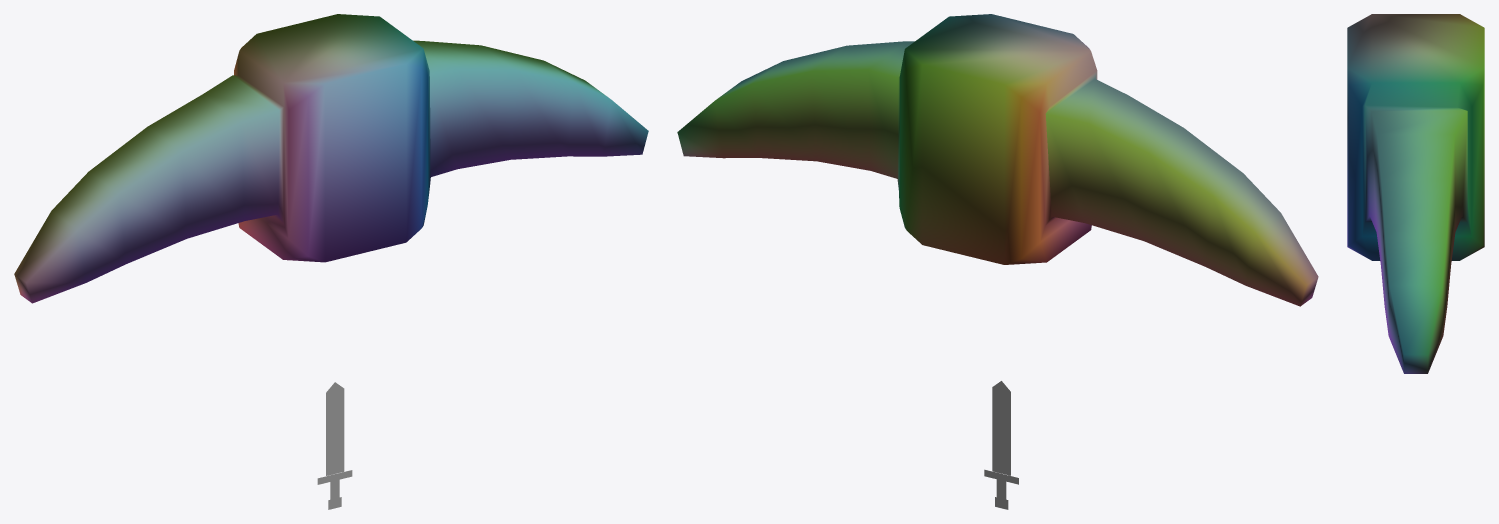
Rendered from Elements_UI.fbx.
3 views of the same model, side by side, from view 1: azimuth 30°, elevation 25°; view 2: azimuth 150°, elevation 25°; view 3: azimuth 270°, elevation 25° (orthographic).
Visible parts, largest first — view 1: Pick, Sword; view 2: Pick, Sword; view 3: Pick.
Part boxes in pixels (x1,y1,x2,y2): Pick: [14, 14, 648, 303]; Sword: [317, 382, 352, 509]; Pick: [677, 14, 1318, 306]; Sword: [984, 381, 1018, 509]; Pick: [1347, 14, 1484, 373].
Size of the model in its own units: 782 by 549 by 149.
